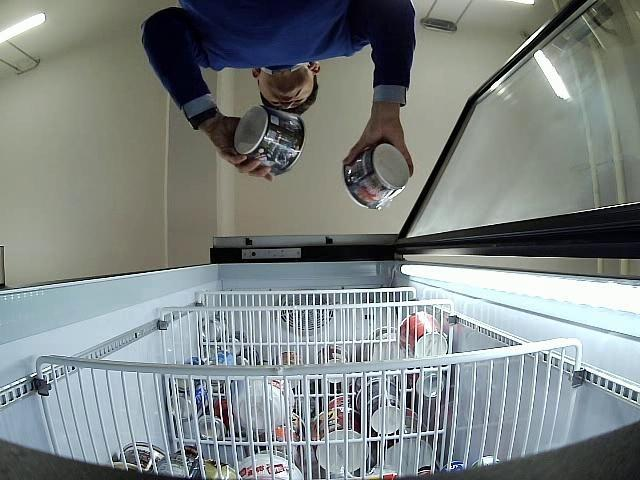07_buldak_L: (234, 107, 305, 176), (343, 144, 410, 210)
